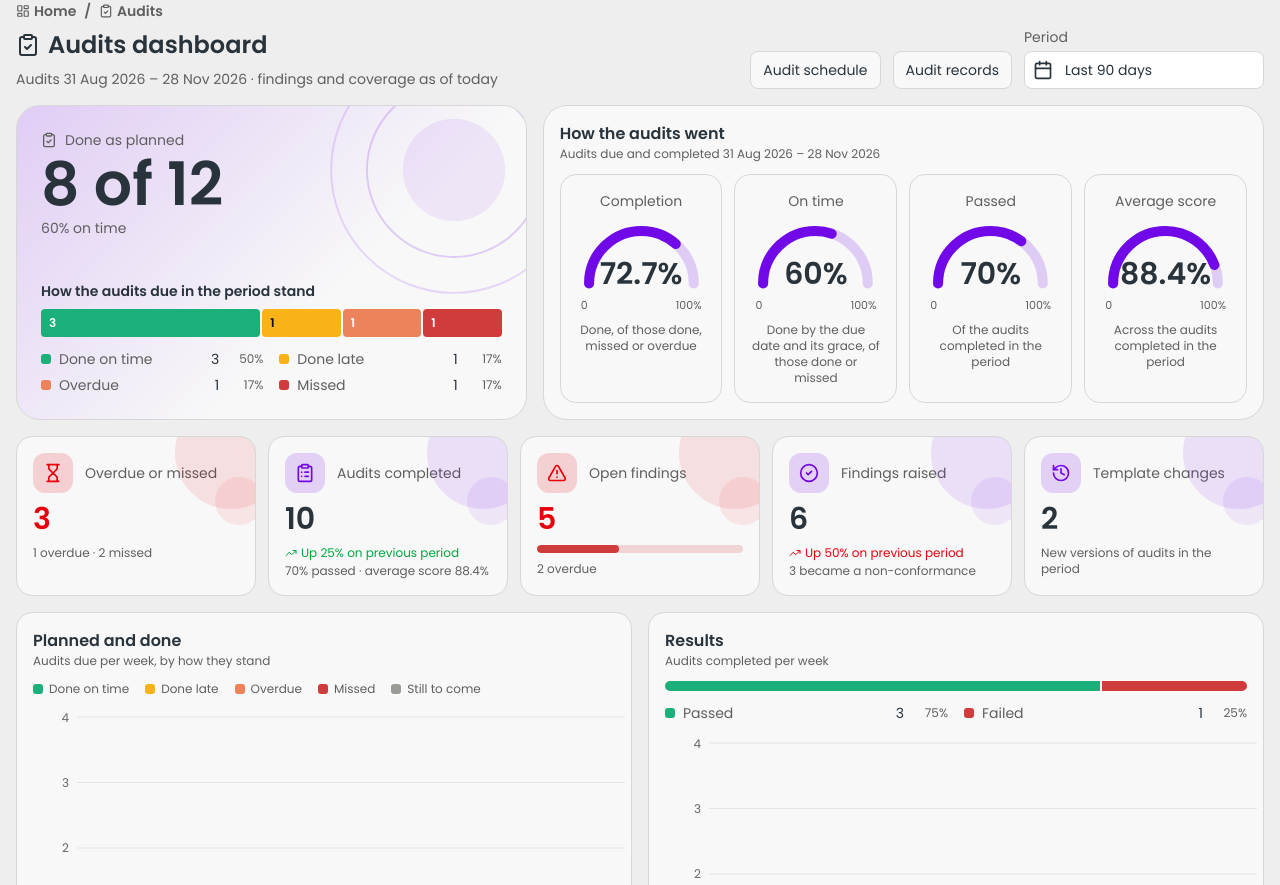
Test case: audits dashboard › changes the period and keeps it in the URL
Expected: the link "Done as planned" is shown, [16,105,527,420]
Click the button named "Period" at (1144, 70), box [1024,51,1264,89]
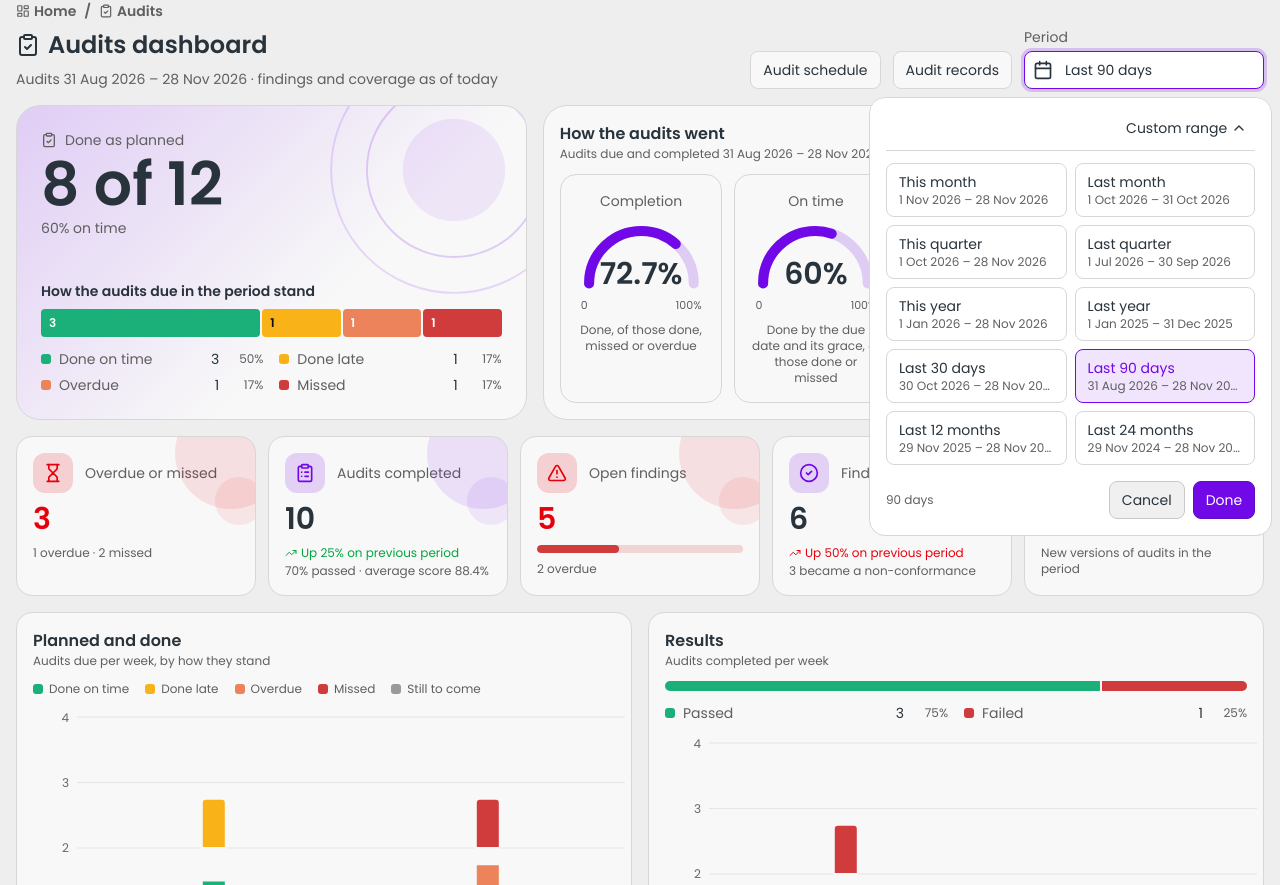
Click the button "Last 12 months 29 Nov 2025 – 28 Nov 2026" at (976, 438), box [886,411,1067,465]
(page scrolled)
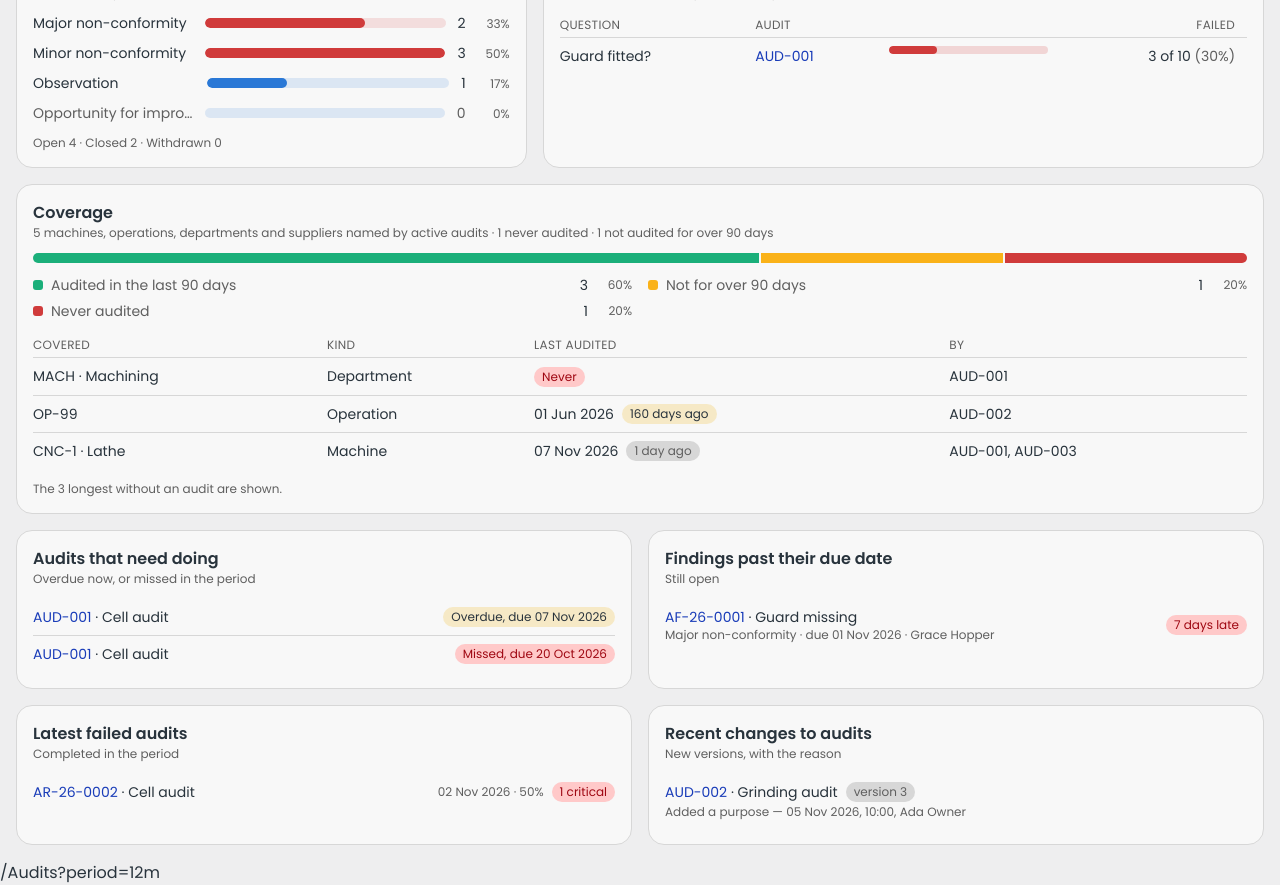
Result: the text with test id "where" reads "/Audits?period=12m" at [0,861,160,884]
